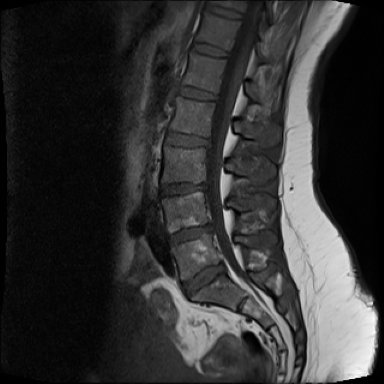Lumbar Disc Bulge (LDB): (178, 256, 230, 302), (163, 218, 218, 251), (155, 177, 211, 199), (162, 130, 216, 151)
Normal IVD: (173, 84, 221, 106), (190, 40, 233, 62), (202, 4, 247, 23)
Spinal Stenosis (SS): (204, 215, 221, 238), (201, 131, 216, 153), (214, 256, 227, 281), (198, 178, 212, 195)
